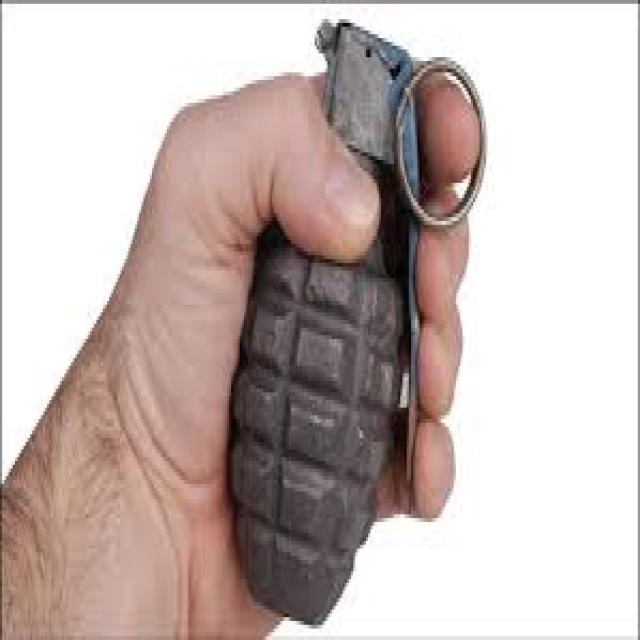grenade: (226, 15, 495, 638)
